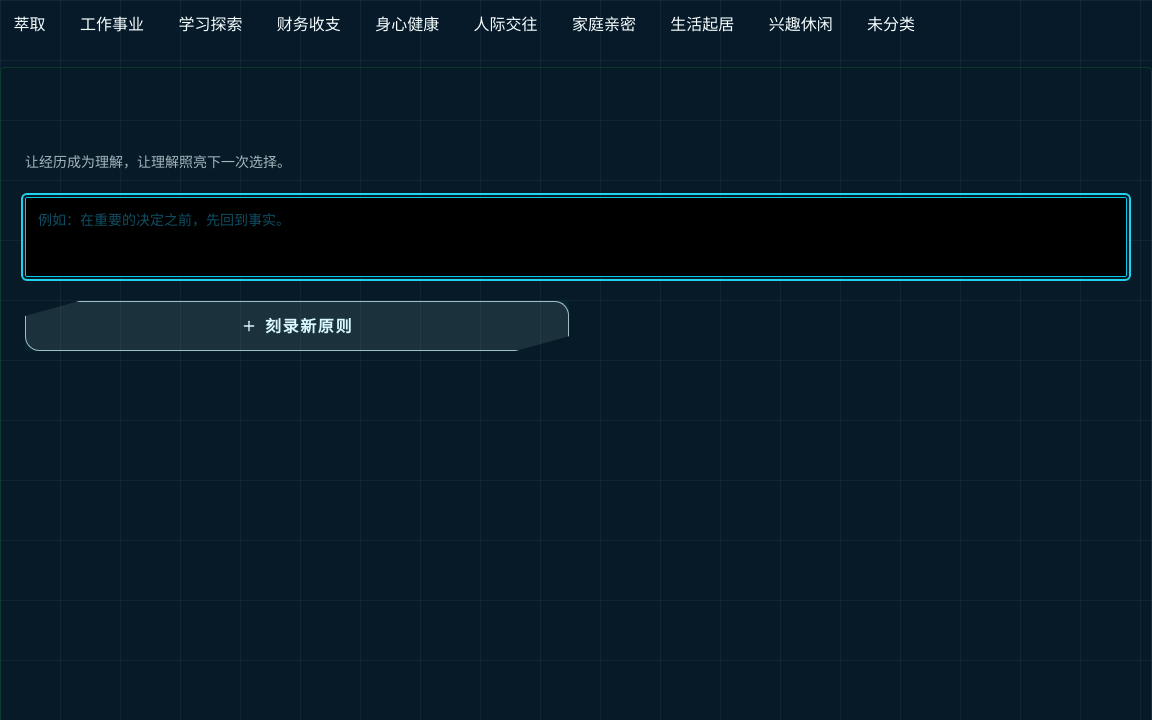
Scenario: ArchivePrinciplesView › always displays every event tag page even before principles use them
Expected: the button "财务收支" is shown, [263,2,354,46]
Expected: the button "身心健康" is shown, [362,2,453,46]
Click the button "工作事业".
click(112, 24)  # box [66,2,158,46]
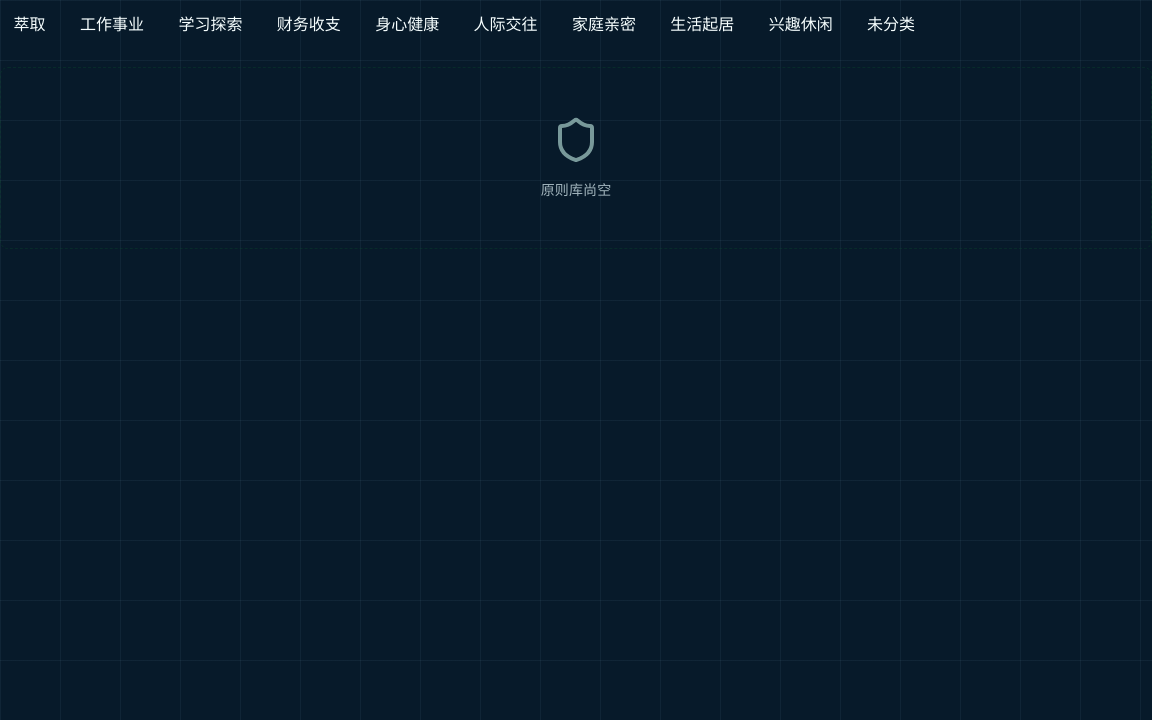
Expected: the text "原则库尚空" is shown, [541,180,611,200]
